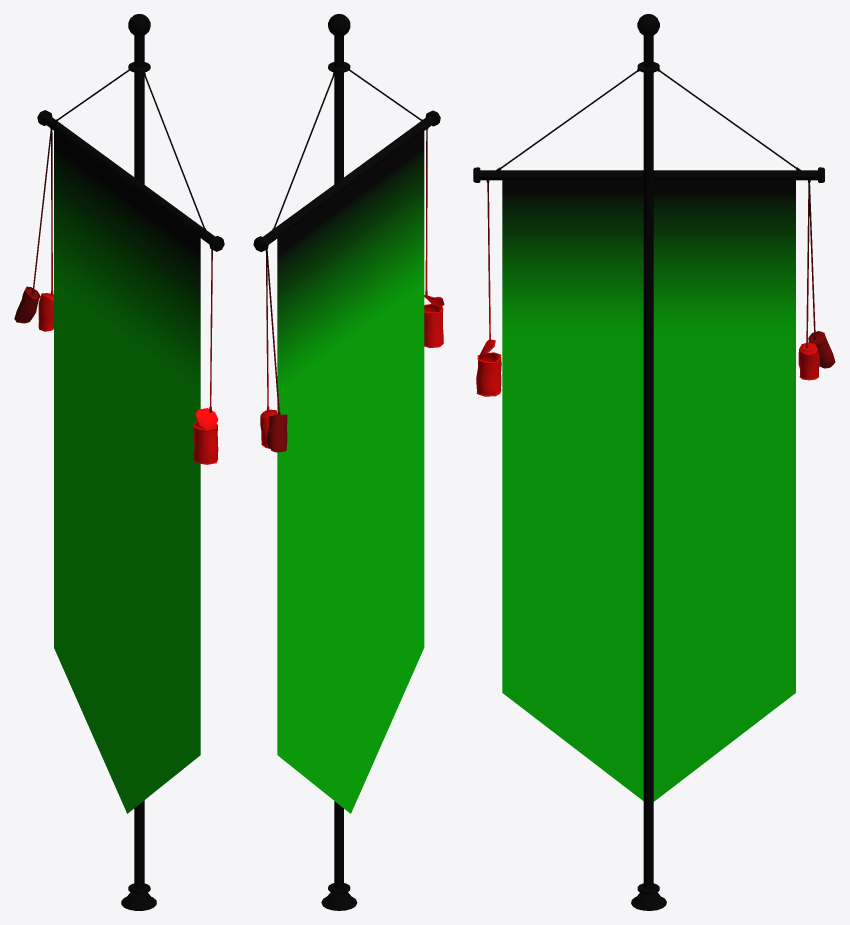
The model's file is TTFEBanner.fbx.
The picture shows the model from 3 angles, left to right: view 1: azimuth 30°, elevation 25°; view 2: azimuth 150°, elevation 25°; view 3: azimuth 270°, elevation 25°; orthographic projection.
Visible parts, largest first — view 1: TTFEBanner; view 2: TTFEBanner; view 3: TTFEBanner.
Boxes of the visible parts, x1,y1,x2,y2 form: TTFEBanner: [14, 14, 224, 910]; TTFEBanner: [253, 14, 444, 910]; TTFEBanner: [473, 14, 835, 910].
Bounding box in the file's own units: 0.1879 × 3.18 × 1.18.
